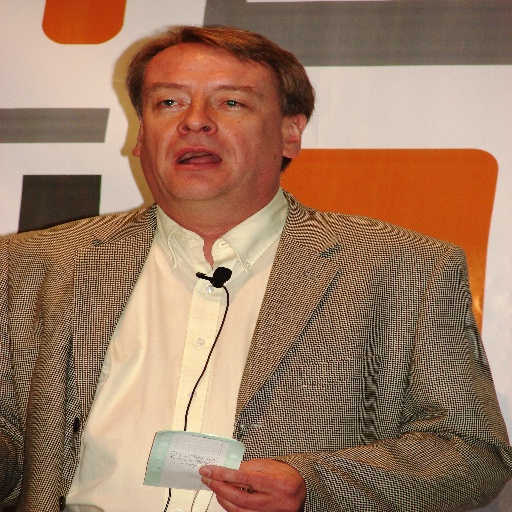hand: (200, 453, 312, 510)
